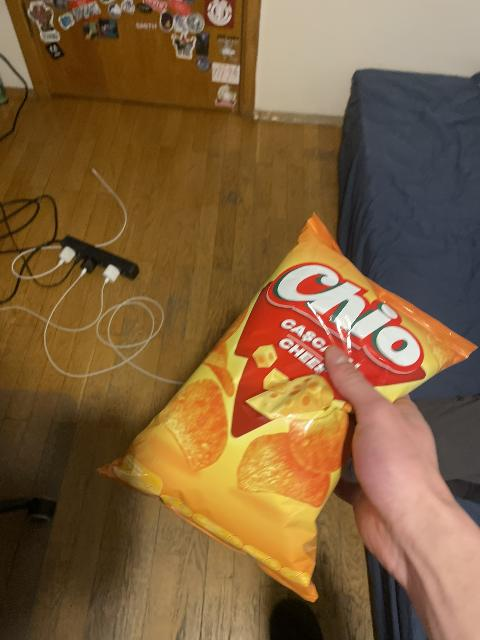Chio Cascaval 125g: (100, 214, 474, 592)
